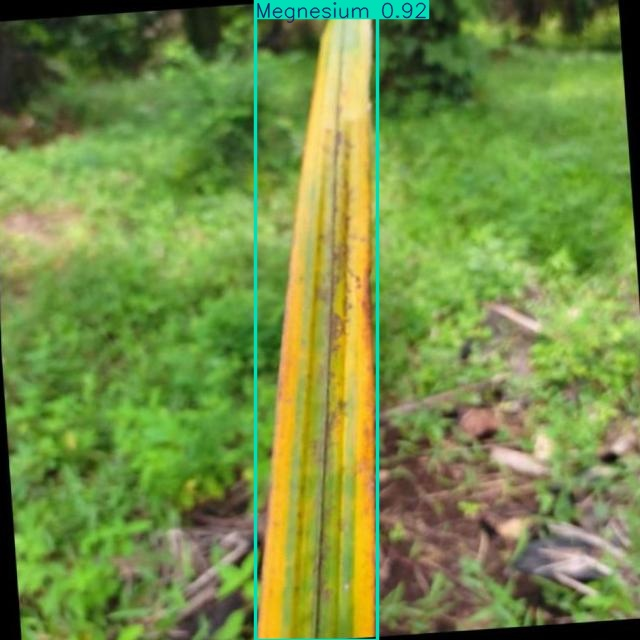Megnesium: (255, 1, 378, 640)
